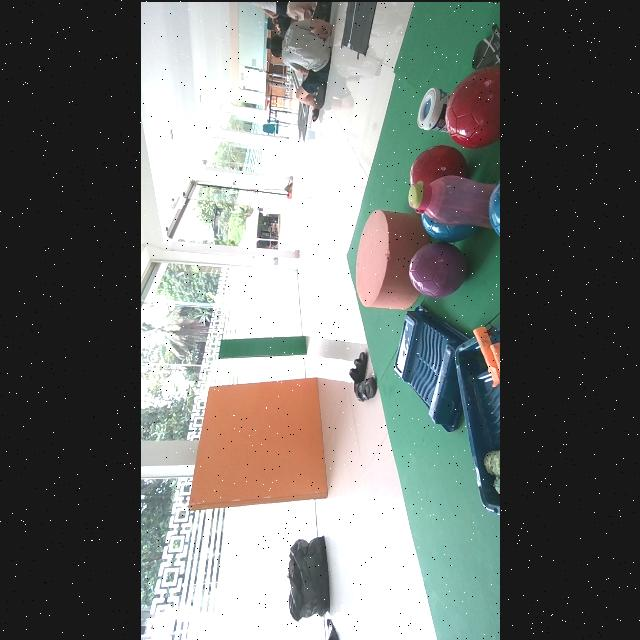B: (420, 212, 478, 240), (488, 178, 500, 235)
P: (409, 240, 466, 297)
R: (446, 63, 500, 147), (409, 143, 468, 184)
